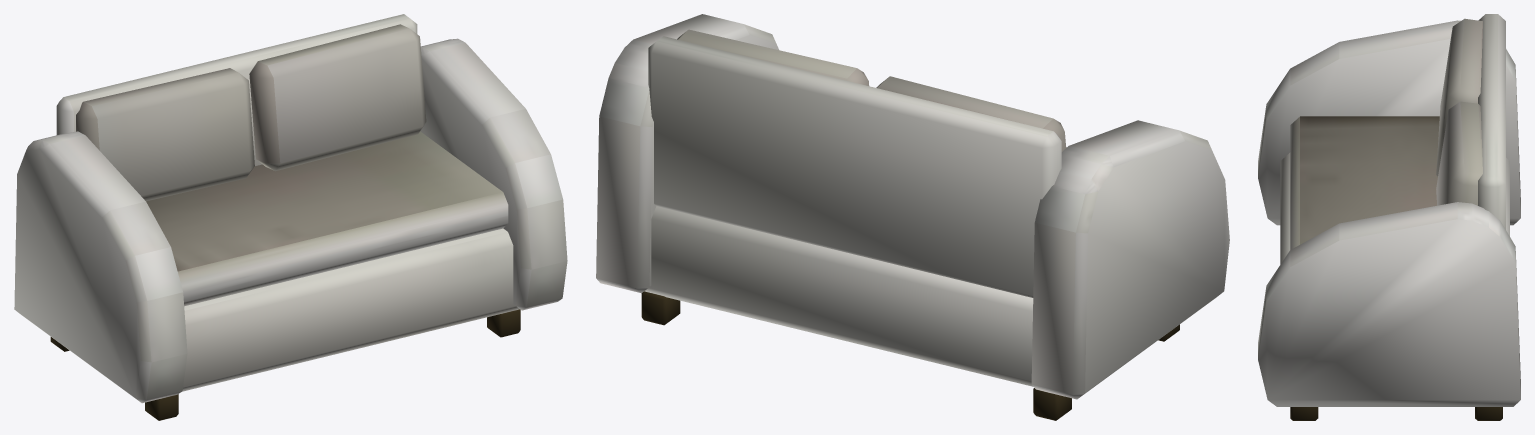
File: Sofa.fbx
3 renders of one model, left to right at view 1: azimuth 30°, elevation 25°; view 2: azimuth 150°, elevation 25°; view 3: azimuth 270°, elevation 25°, orthographic. The views are drawn at different scales.
Parts seen in each view (by area): view 1: Seat cushion, Arm R.001, Base, Back cushion R, Arm R, Back cushion L, Rear frame, Foot.002, Foot; view 2: Rear frame, Arm R.001, Base, Arm R, Back cushion L, Back cushion R, Foot.003, Foot.001; view 3: Arm R, Arm R.001, Seat cushion, Rear frame, Back cushion R, Back cushion L, Base, Foot.002, Foot.003.
Part boxes in pixels (x1,y1,x2,y2): Seat cushion: [146, 131, 508, 306]; Arm R.001: [14, 131, 187, 403]; Base: [182, 228, 519, 391]; Back cushion R: [249, 24, 426, 171]; Arm R: [420, 38, 567, 310]; Back cushion L: [76, 68, 254, 201]; Rear frame: [56, 14, 417, 165]; Foot.002: [487, 309, 520, 337]; Foot: [145, 394, 178, 420]; Rear frame: [648, 36, 1061, 297]; Arm R.001: [1031, 120, 1229, 399]; Base: [644, 206, 1033, 386]; Arm R: [596, 14, 778, 293]; Back cushion L: [876, 76, 1066, 151]; Back cushion R: [677, 29, 869, 85]; Foot.003: [641, 291, 680, 325]; Foot.001: [1033, 388, 1071, 420]; Arm R: [1258, 202, 1520, 406]; Arm R.001: [1258, 20, 1520, 225]; Seat cushion: [1290, 116, 1439, 249]; Rear frame: [1478, 14, 1505, 229]; Back cushion R: [1436, 101, 1482, 205]; Back cushion L: [1436, 18, 1482, 176]; Base: [1280, 152, 1509, 264]; Foot.002: [1290, 407, 1318, 420]; Foot.003: [1475, 407, 1502, 420].
Bounding box in the file's own units: 341 × 190 × 188.
Materials: 11 (7 with a texture image).
